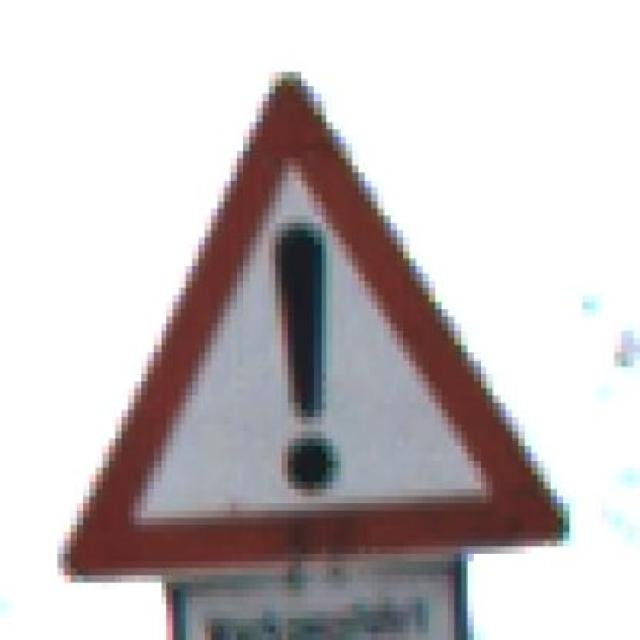Attention Please-: (45, 57, 583, 581)
